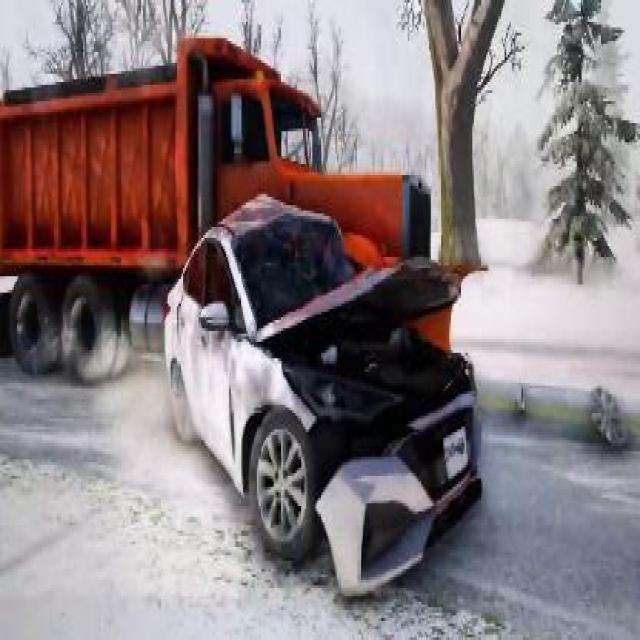accident: (3, 13, 486, 604)
